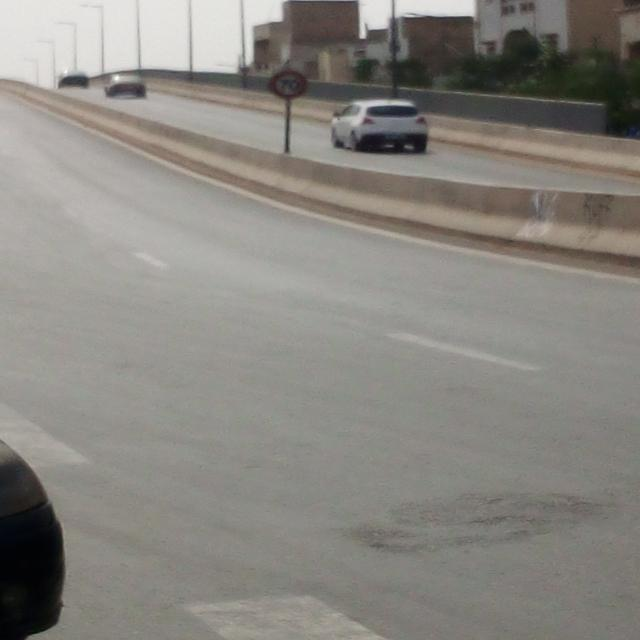particulier: (333, 100, 429, 154), (59, 72, 91, 90)
taxi: (106, 75, 148, 100)
